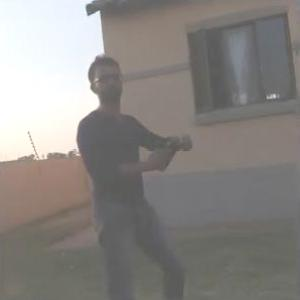follow: (74, 50, 196, 299)
